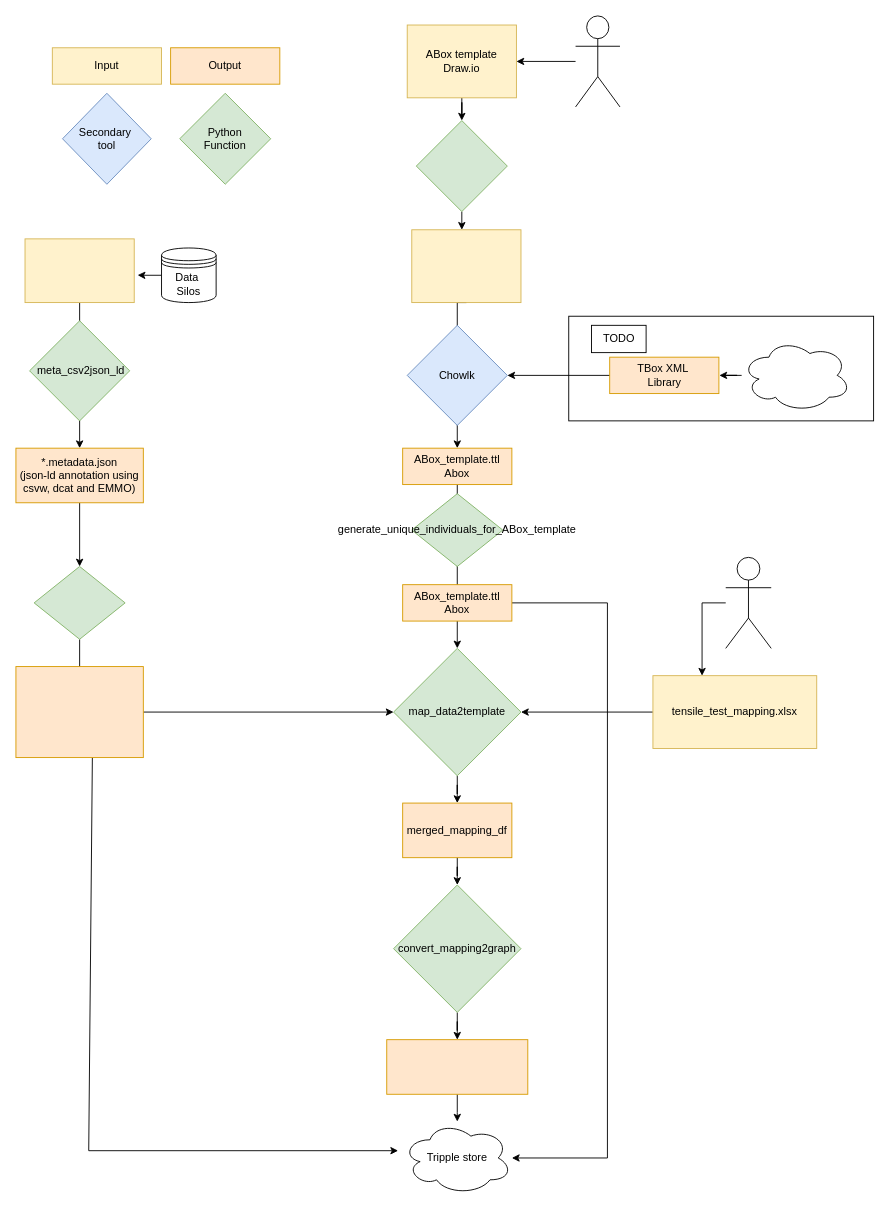
Some shapes in this 890 by 1210 pixel diagram are drawn without their labels. Here are the shapes that lost their labels. From the top down, the centre of each, then its label:
At point (597, 61): "Domain Expert".
At point (461, 166): "EMMO label replacement".
At point (79, 270): "*.csv (meta data + large arrays)".
At point (466, 266): "ABox template with EMMO names".
At point (796, 375): "Ontology Tbox".
At point (79, 602): "jsonld2rdf".
At point (748, 602): "Data Curator".
At point (79, 712): "*.metadata.ttl".
At point (457, 1066): "tensile_test_mapping.ttl".
